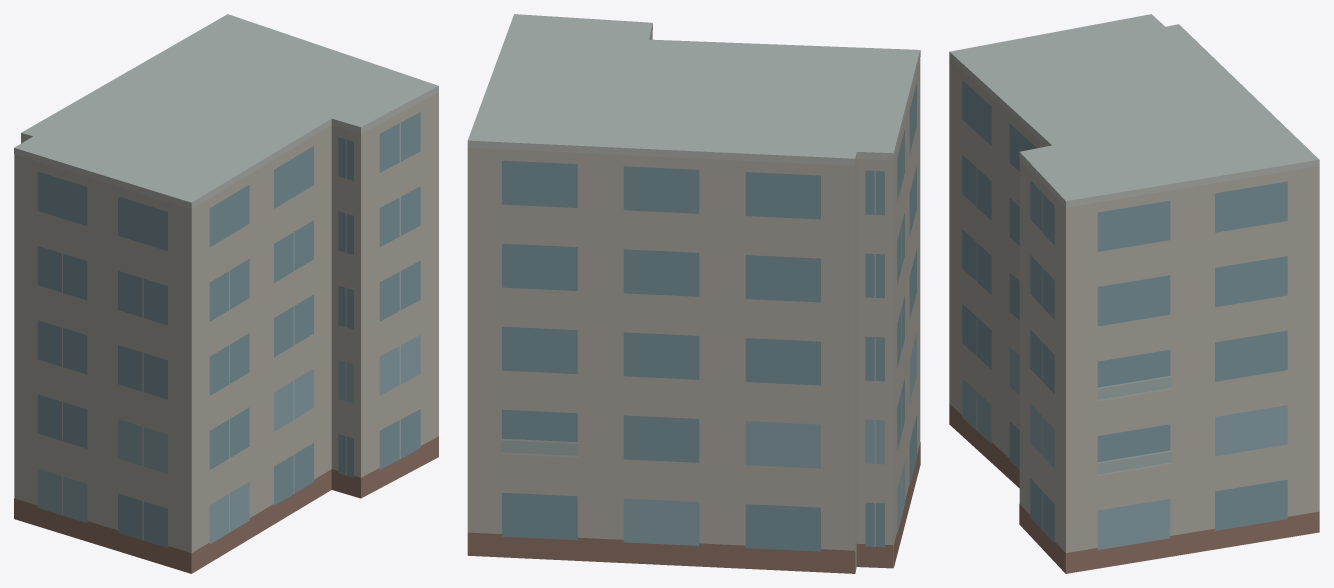
The model's file is survey-upis-32971036.glb.
3 views of the same model, side by side, from view 1: azimuth 30°, elevation 25°; view 2: azimuth 150°, elevation 25°; view 3: azimuth 270°, elevation 25° (orthographic). The views are drawn at different scales.
Parts seen in each view (by area): view 1: survey-upis-32971036.tmp; view 2: survey-upis-32971036.tmp; view 3: survey-upis-32971036.tmp.
Boxes of the visible parts, box(x1,y1,x2,y2) form: survey-upis-32971036.tmp: box(14, 14, 438, 573); survey-upis-32971036.tmp: box(467, 14, 920, 573); survey-upis-32971036.tmp: box(949, 14, 1319, 573).
Size of the model in its own units: 15.25 by 14.15 by 12.74.
